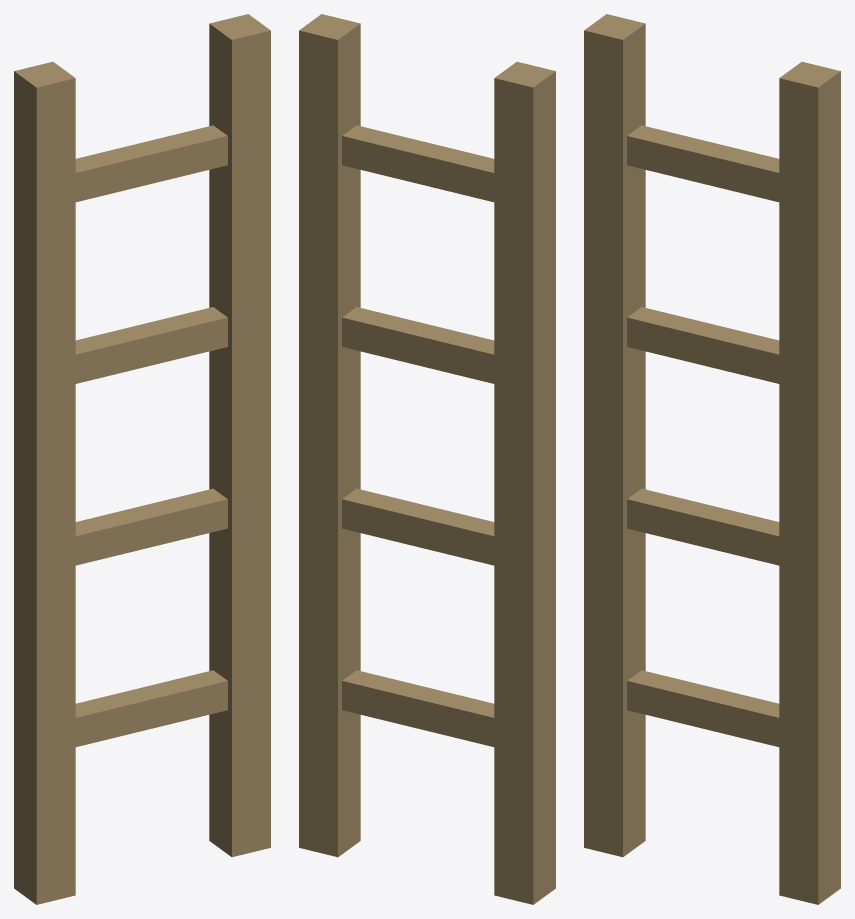
File: ladder.fbx
3 renders of one model, left to right at view 1: azimuth 30°, elevation 25°; view 2: azimuth 150°, elevation 25°; view 3: azimuth 330°, elevation 25°, orthographic.
Visible parts, largest first — view 1: rightBar_e_45_; view 2: rightBar_e_45_; view 3: rightBar_e_45_.
Part boxes in pixels (x1=…): rightBar_e_45_: x1=14, y1=14, x2=270, y2=904; rightBar_e_45_: x1=299, y1=14, x2=555, y2=904; rightBar_e_45_: x1=584, y1=14, x2=840, y2=904.
Bounding box in the file's own units: 60 × 200 × 10.
